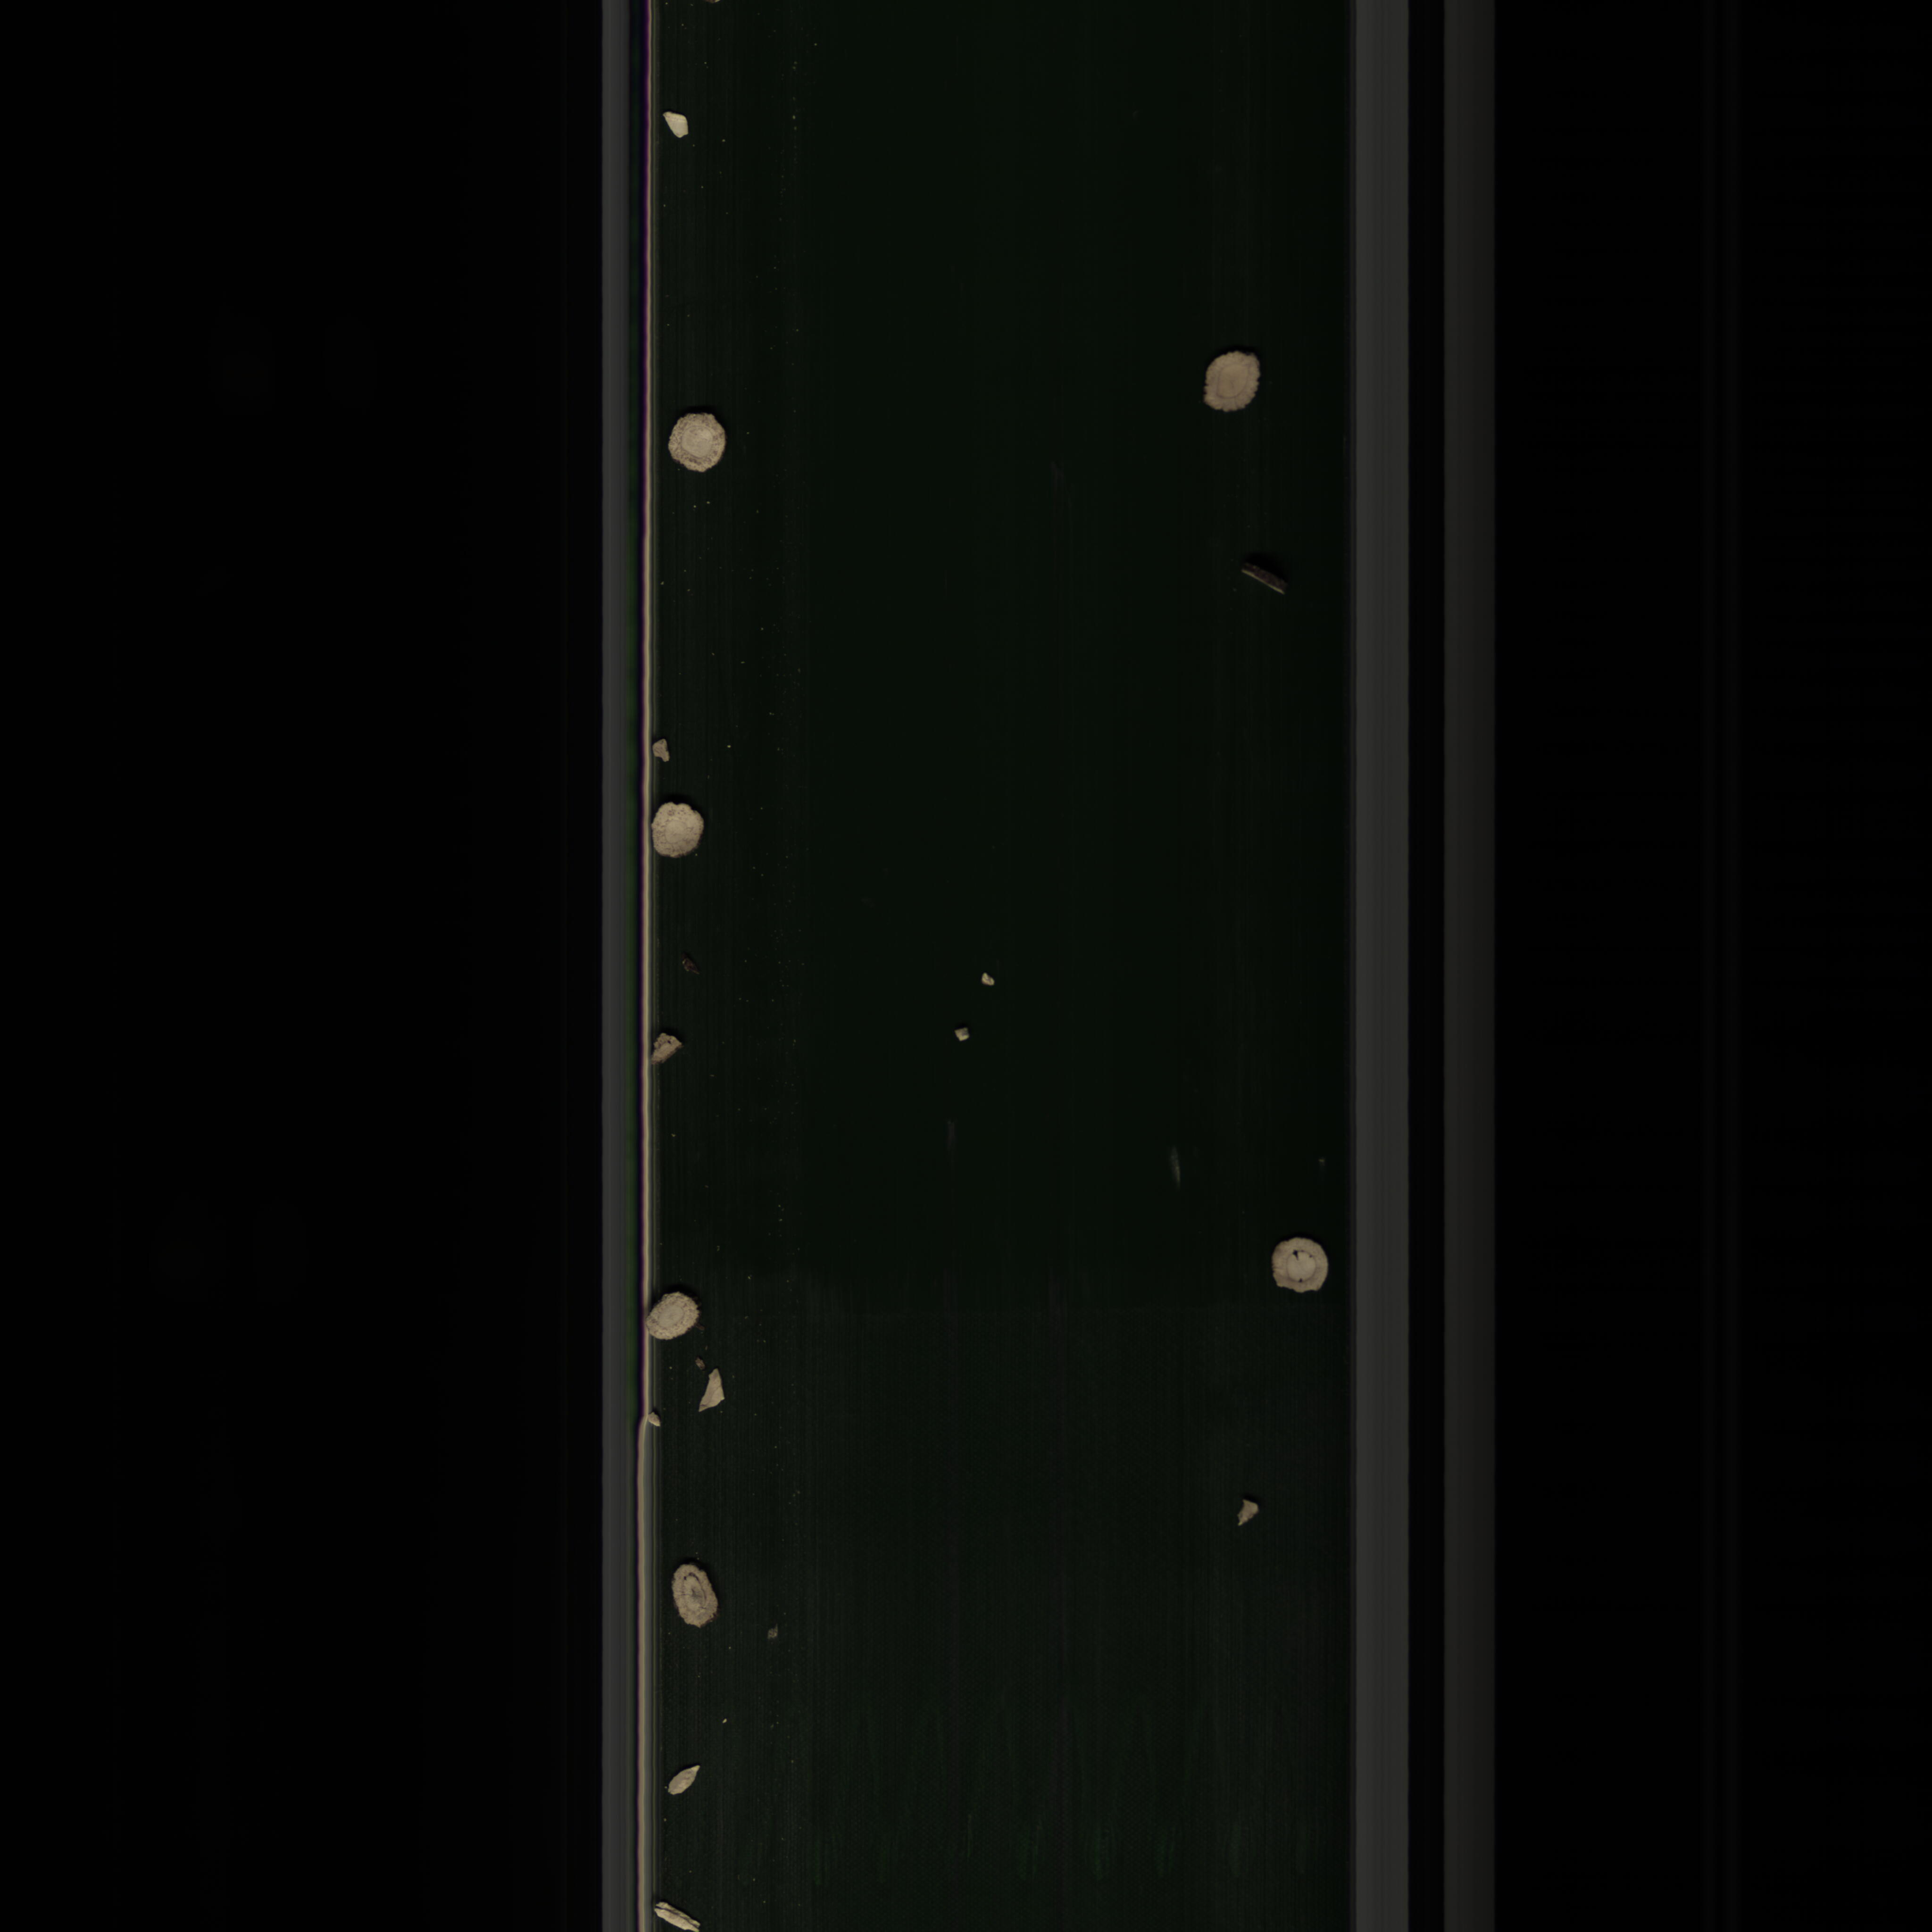bark: (1238, 556, 1297, 610), (648, 1024, 686, 1074)
debris: (701, 1364, 732, 1424), (663, 1759, 709, 1798)
distortion: (665, 1564, 727, 1631), (1233, 1490, 1263, 1532)
hole: (1265, 1230, 1338, 1300)
